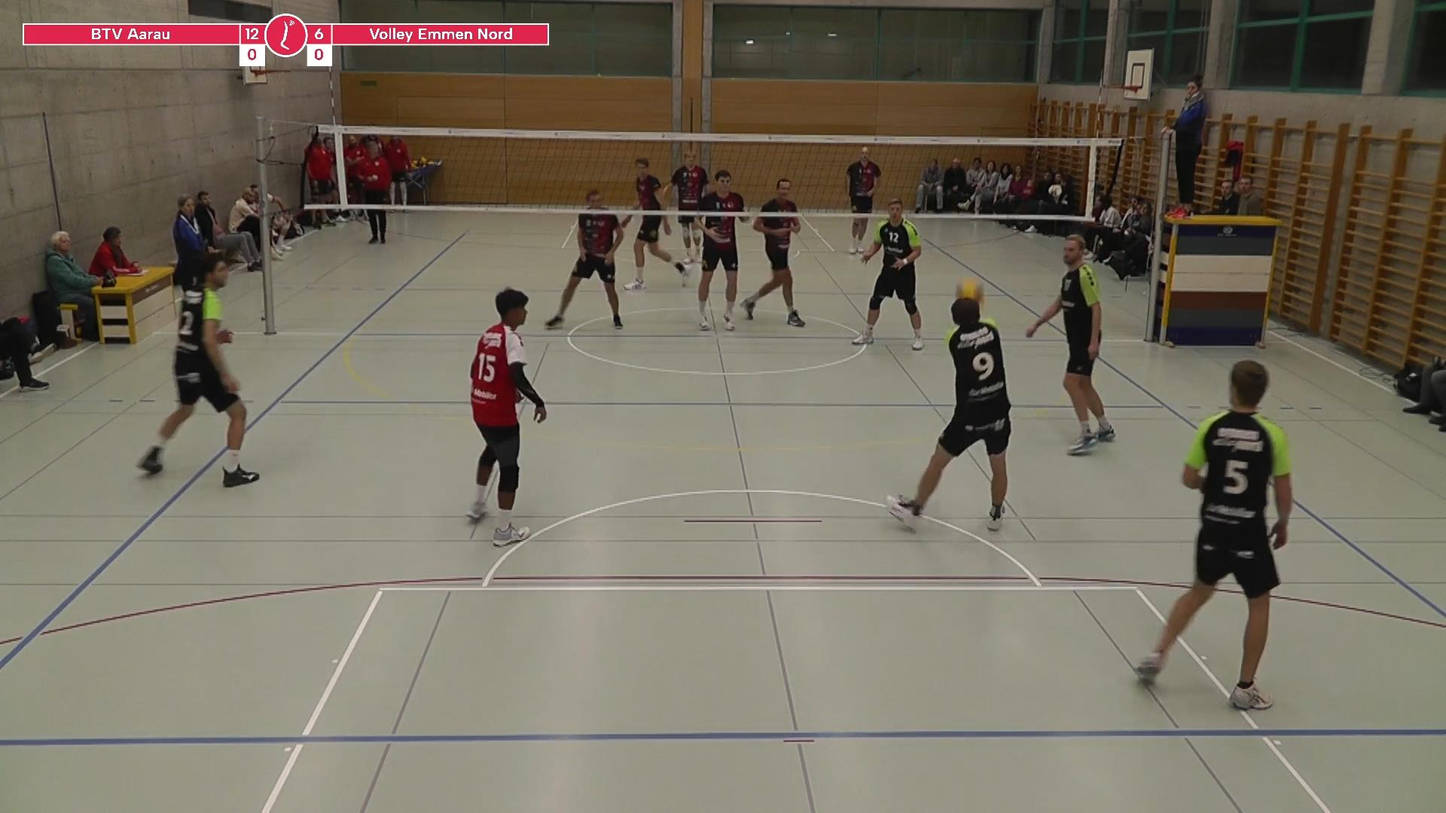ricezione: (873, 304, 1026, 537)
